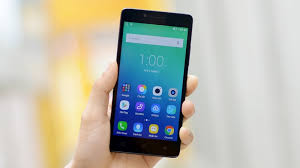lenovo: (104, 5, 195, 160)
